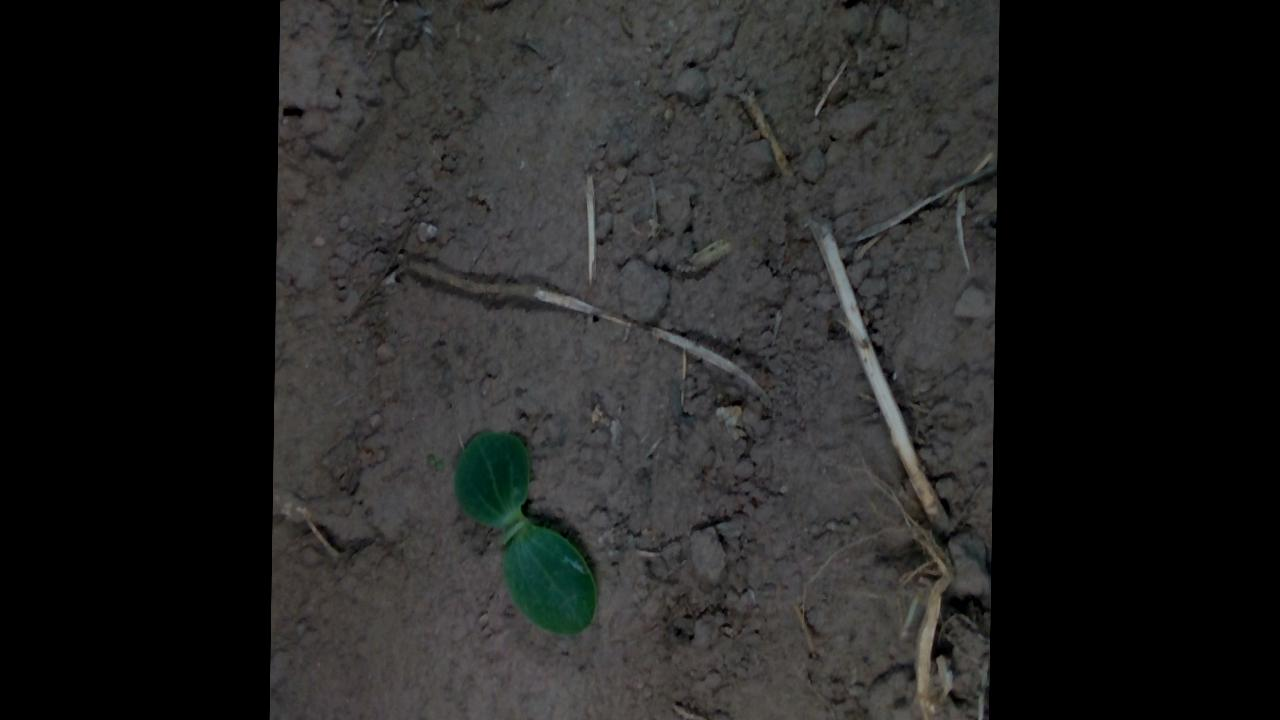crop: (449, 429, 604, 639)
